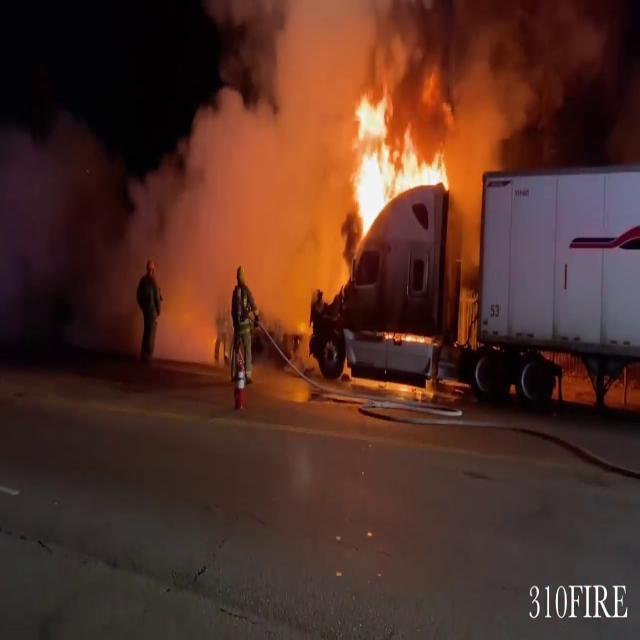Fire: (340, 90, 452, 240)
Smoke: (0, 4, 360, 359), (388, 2, 584, 179)
